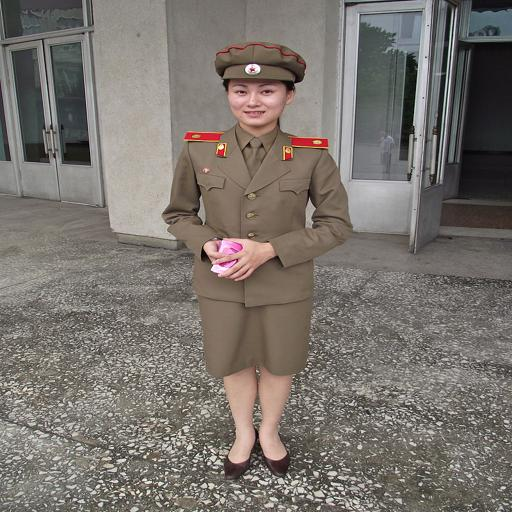north army: (144, 24, 362, 483)
